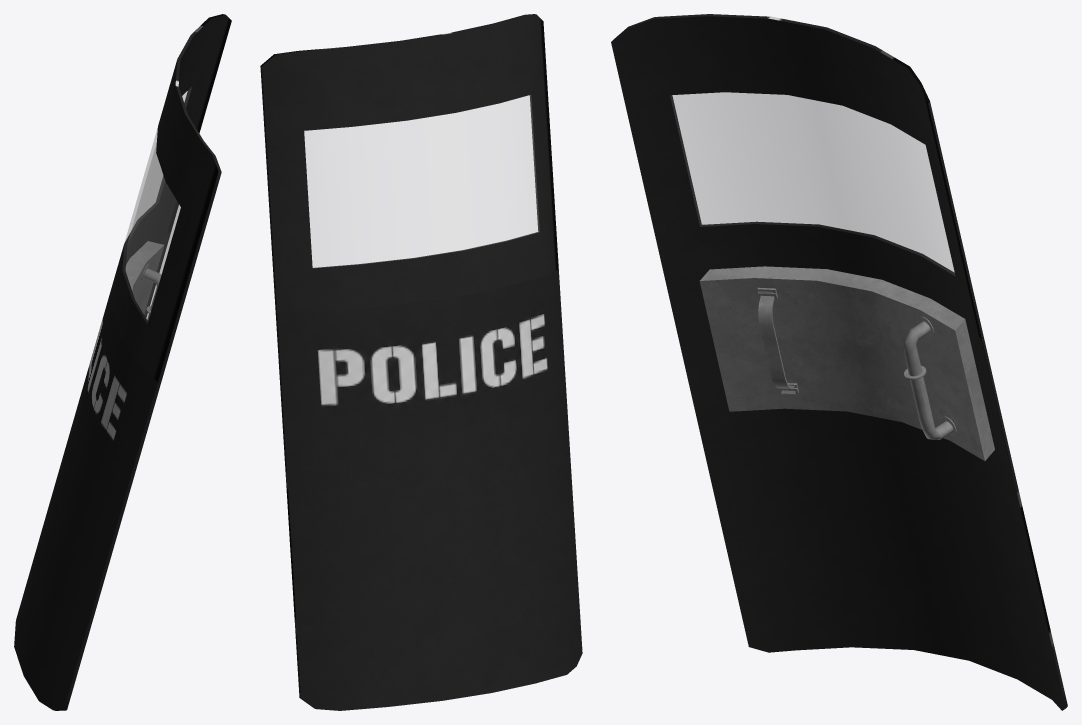
File: shield.fbx
3 views of the same model, side by side, from view 1: azimuth 30°, elevation 25°; view 2: azimuth 150°, elevation 25°; view 3: azimuth 270°, elevation 25° (orthographic). The views are drawn at different scales.
Parts seen in each view (by area): view 1: polySurface22; view 2: polySurface22; view 3: polySurface22.
Boxes of the visible parts, x1,y1,x2,y2 form: polySurface22: (14,14,231,710); polySurface22: (260,14,582,710); polySurface22: (611,14,1067,710).
Bounding box in the file's own units: 0.7739 × 1.79 × 1.04.
2 materials, 1 textured.
